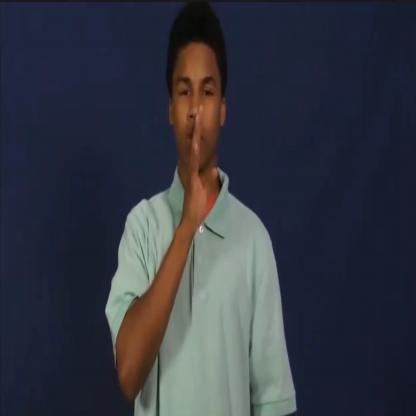Talk: (150, 5, 240, 250)
